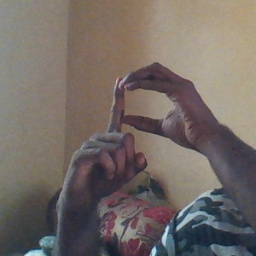P: (77, 60, 218, 194)
